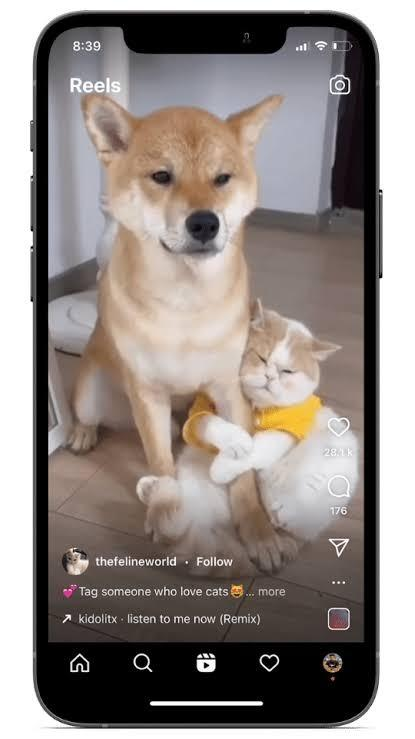adult_dog: (58, 88, 290, 574)
non-dog: (135, 296, 361, 541)
